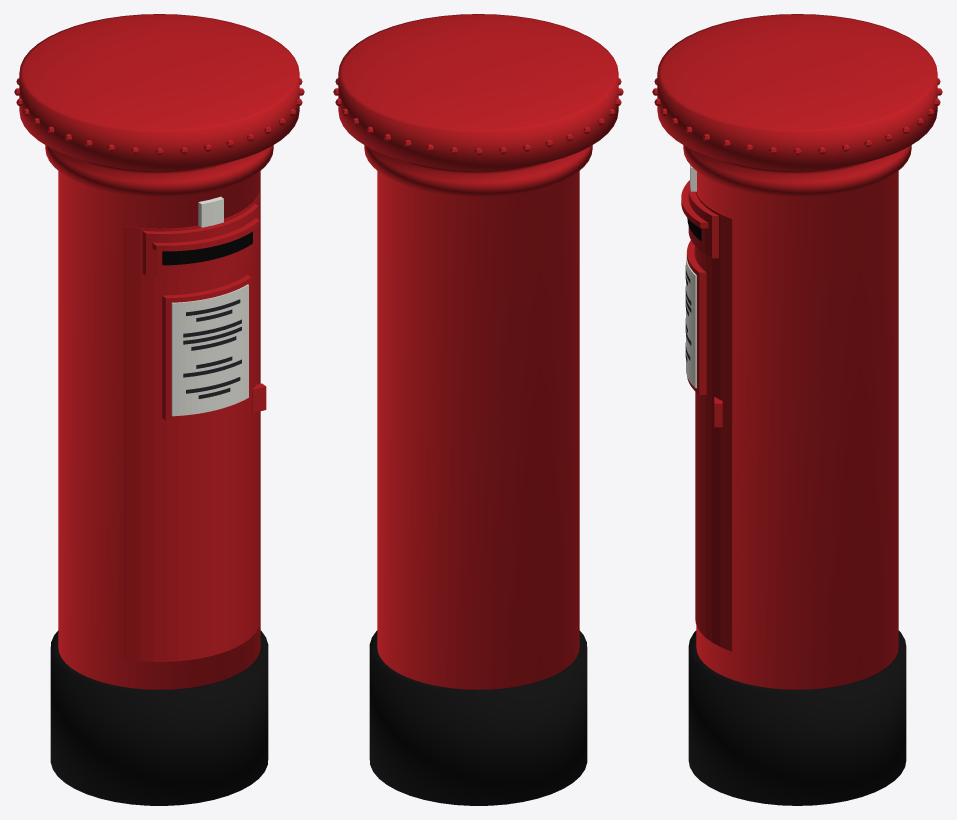
The model's file is pillar-box.glb.
The picture shows the model from 3 angles, left to right: view 1: azimuth 30°, elevation 25°; view 2: azimuth 150°, elevation 25°; view 3: azimuth 270°, elevation 25°; orthographic projection.
Parts seen in each view (by area): view 1: body; view 2: body; view 3: body.
Boxes of the visible parts, x1,y1,x2,y2 form: body: (14, 14, 304, 805); body: (333, 14, 623, 805); body: (652, 14, 942, 805).
Bounding box in the file's own units: 0.5579 × 1.48 × 0.56.
